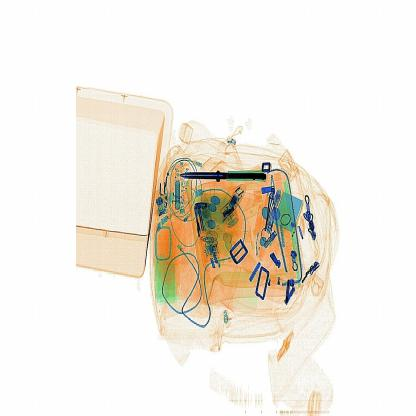gun: (175, 163, 274, 189)
